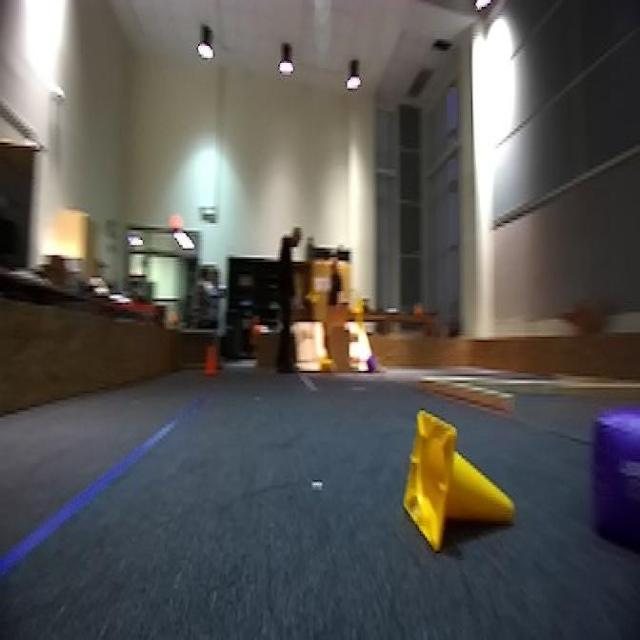frc_cone: (402, 408, 517, 555), (317, 356, 335, 376)
frc_cube: (589, 405, 640, 543), (367, 351, 379, 371)
